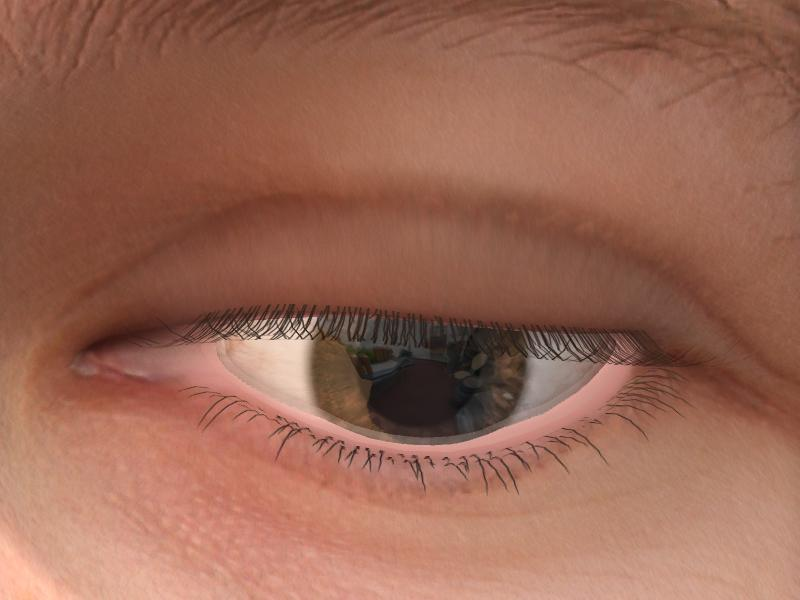eye: (308, 308, 528, 439)
